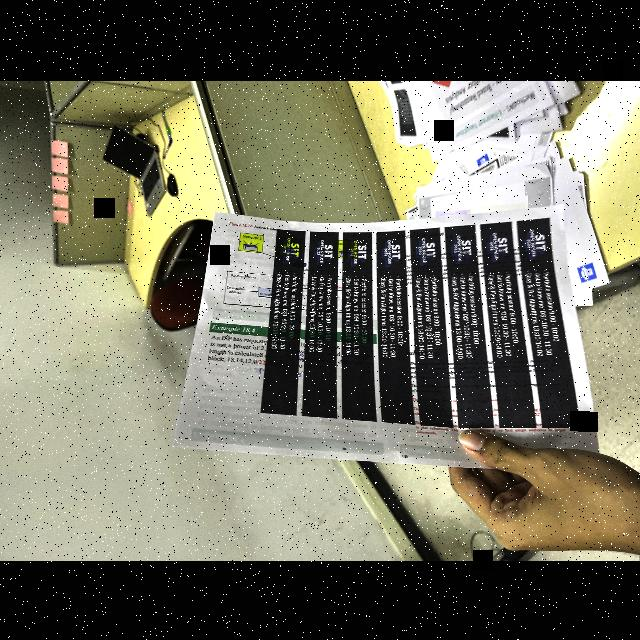reuseable_paper: (167, 200, 608, 470), (373, 80, 611, 290)
